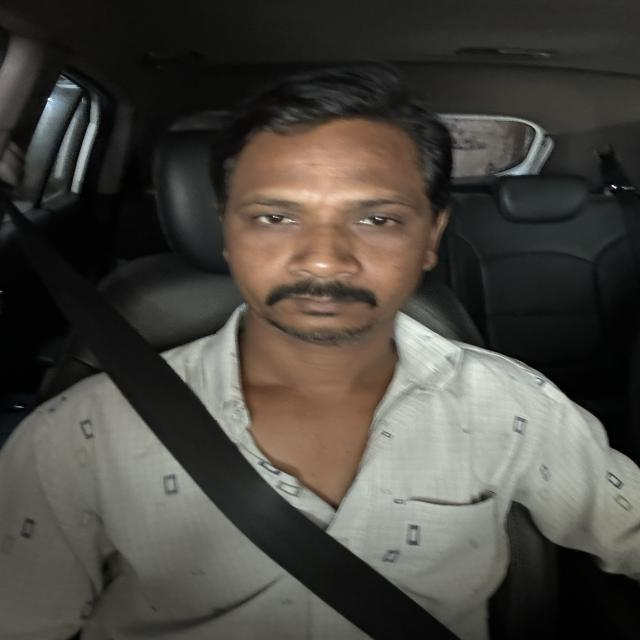seatbelt: (0, 139, 522, 640)
